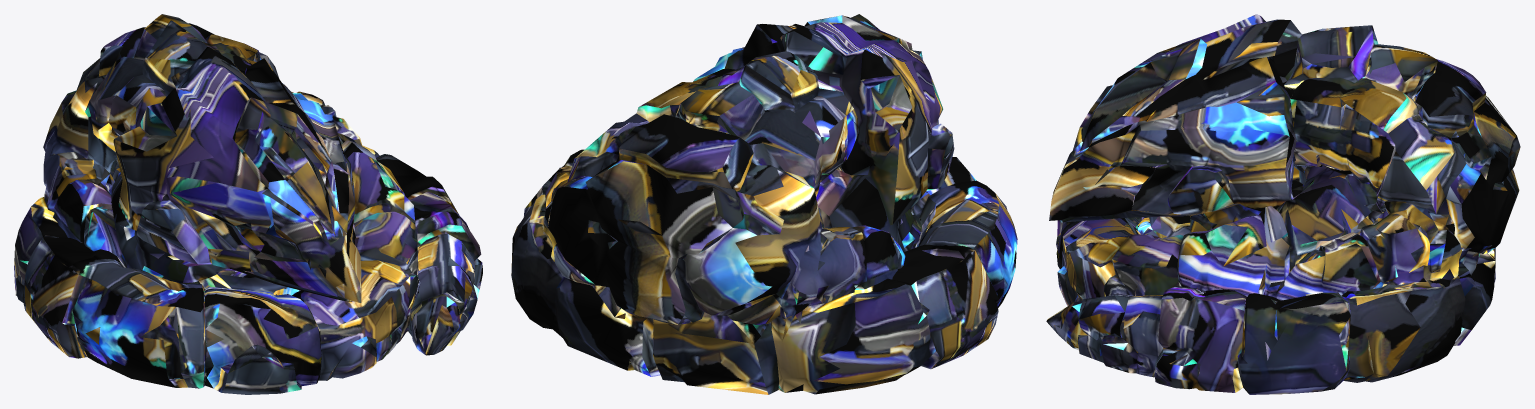
Rendered from creep_serpent_3d_LOD1.fbx.
The picture shows the model from 3 angles, left to right: view 1: azimuth 30°, elevation 25°; view 2: azimuth 150°, elevation 25°; view 3: azimuth 270°, elevation 25°; orthographic projection. The views are drawn at different scales.
Visible parts, largest first — view 1: Mesh1.0; view 2: Mesh1.0; view 3: Mesh1.0.
Boxes of the visible parts, left/top/right/bottom form: Mesh1.0: left=14, top=14, right=482, bottom=394; Mesh1.0: left=511, top=14, right=1017, bottom=394; Mesh1.0: left=1046, top=14, right=1520, bottom=394.
Size of the model in its own units: 89.96 by 54.63 by 88.71.
